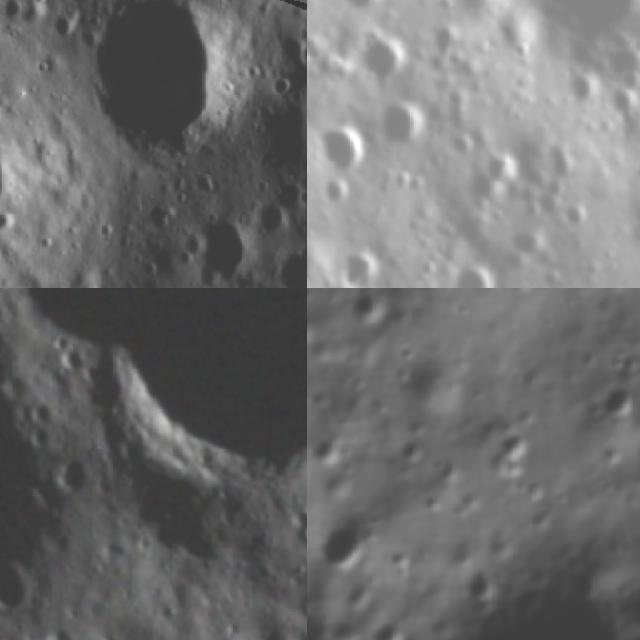crater: (69, 288, 307, 565), (0, 288, 157, 640), (352, 522, 640, 640), (389, 344, 473, 430), (307, 506, 381, 589), (39, 441, 111, 513), (479, 419, 541, 480), (0, 547, 46, 627), (328, 567, 386, 626), (356, 35, 411, 88), (590, 370, 640, 428), (377, 94, 430, 147), (314, 461, 366, 512), (320, 124, 370, 174), (334, 239, 385, 288), (340, 288, 394, 333), (458, 560, 504, 612), (307, 428, 349, 473), (558, 61, 598, 107), (52, 343, 94, 386), (424, 448, 466, 491), (389, 429, 431, 472), (443, 259, 504, 288), (449, 479, 490, 522), (366, 608, 419, 640), (604, 338, 640, 385), (601, 74, 640, 117), (382, 540, 423, 580), (589, 435, 628, 477), (307, 300, 333, 360), (312, 173, 350, 210), (0, 288, 19, 342), (564, 198, 592, 234), (335, 0, 395, 12), (550, 487, 572, 512)
